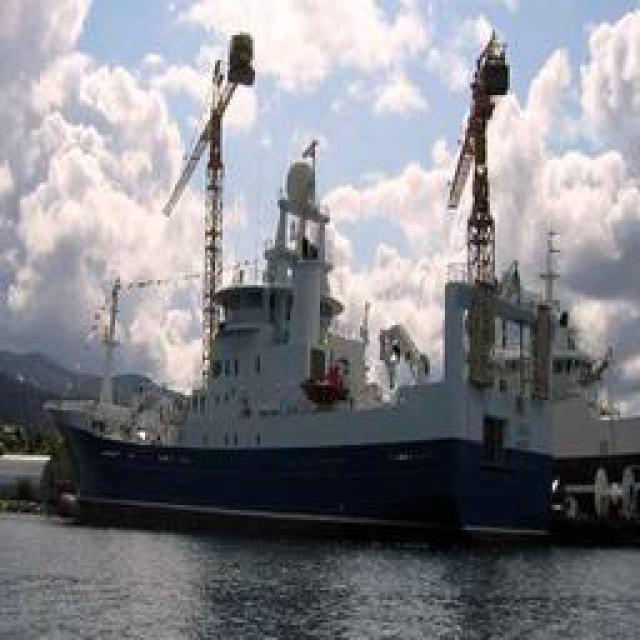Ship: (37, 34, 640, 537)
